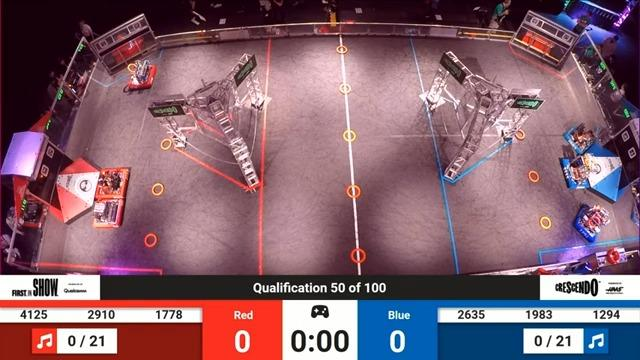robot: (560, 116, 607, 155), (557, 153, 599, 196), (565, 202, 608, 242), (119, 53, 159, 93), (91, 163, 129, 203), (87, 197, 123, 229)
